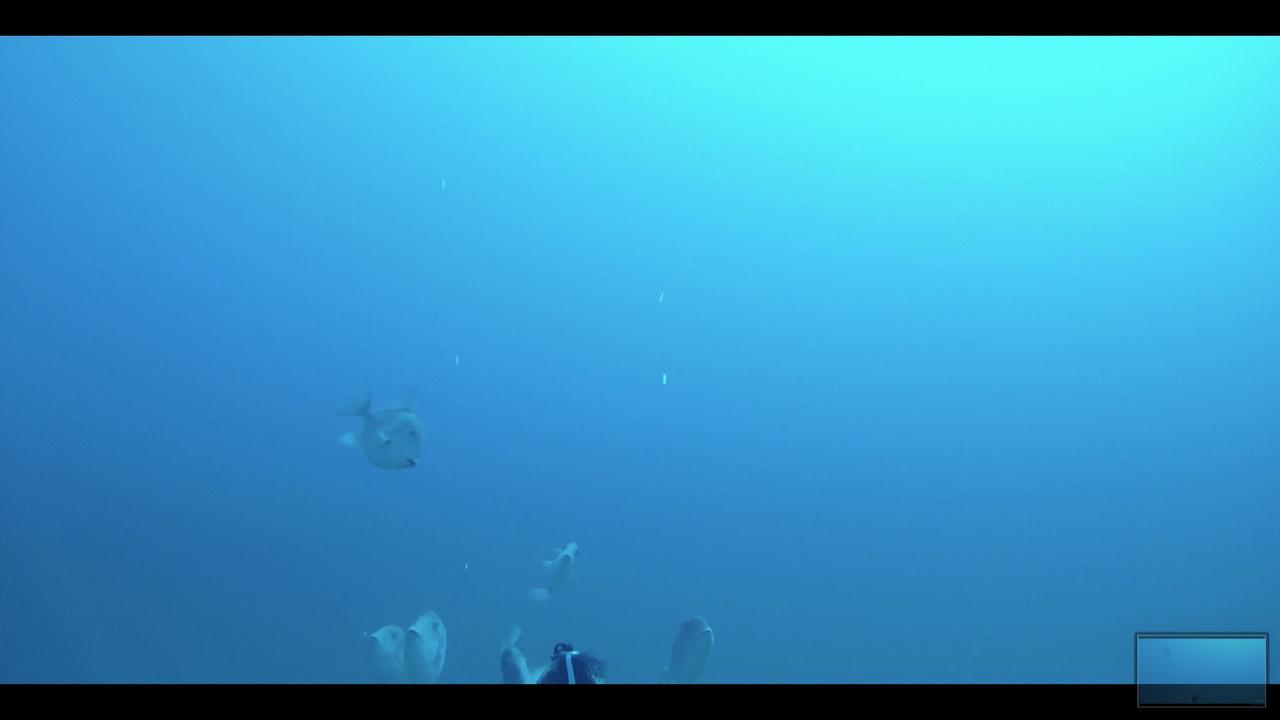balistes: (331, 377, 425, 473), (654, 608, 715, 682), (401, 602, 452, 680), (525, 538, 579, 598), (366, 621, 403, 670)
